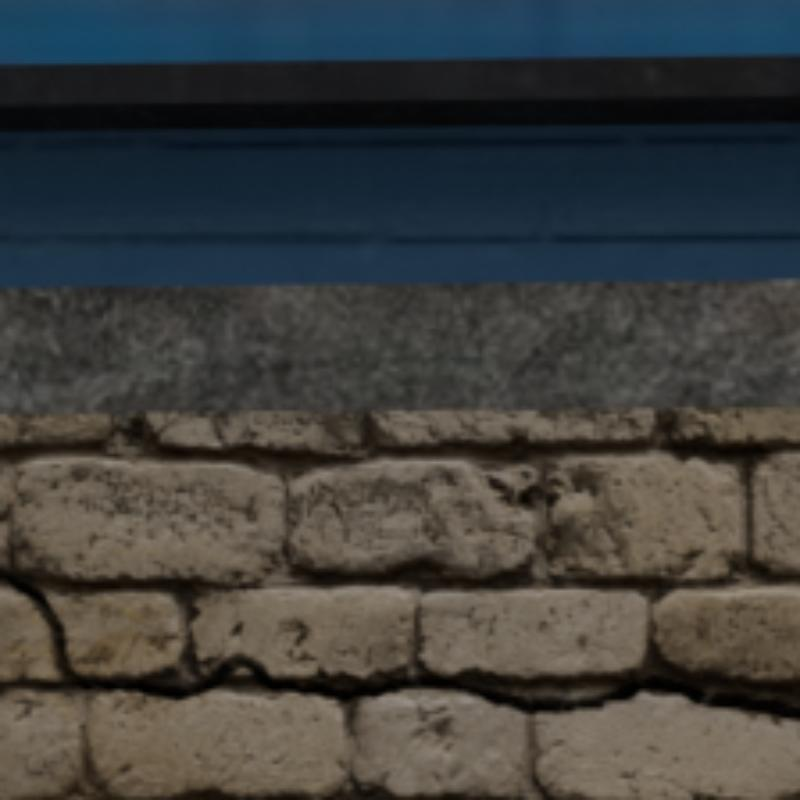crack: (0, 564, 796, 718)
